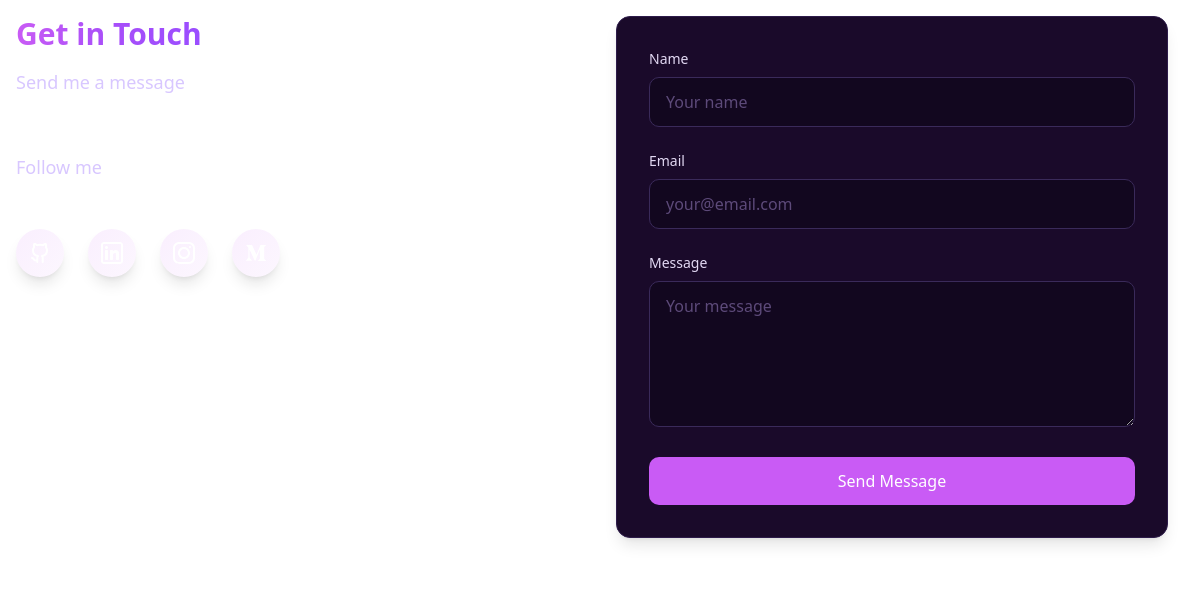
Test: ContactForm › form submission › shows error message on submission failure
Type "John Doe" into the field labelled "Name" at (892, 102), box [649,77,1135,127]
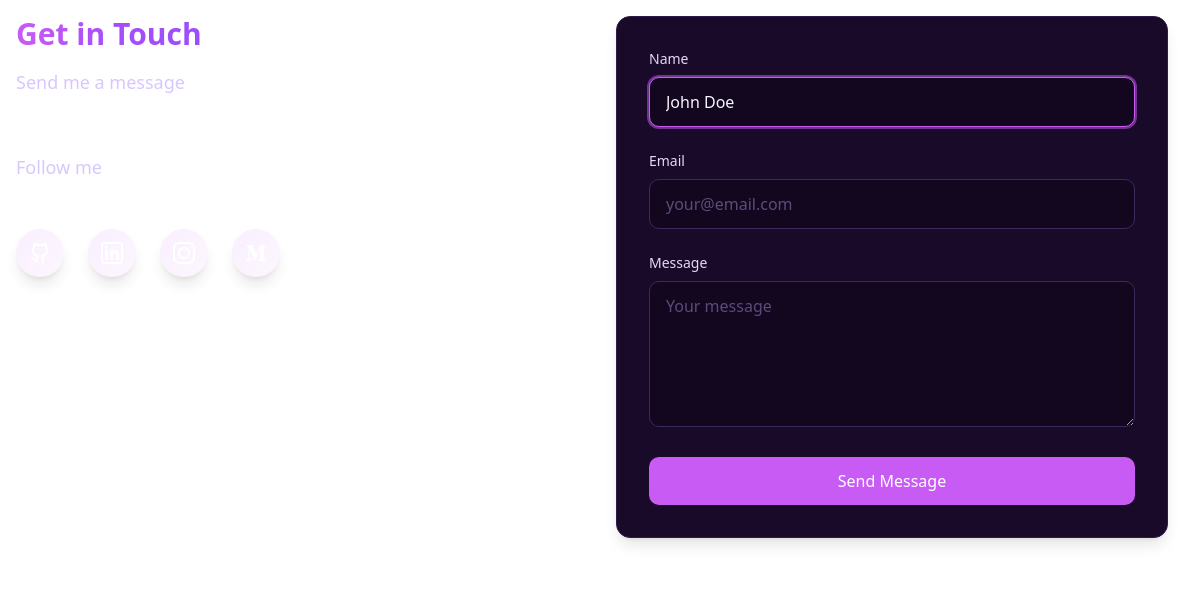
Type "john@example.com" into the field labelled "Email" at (892, 204), box [649,179,1135,229]
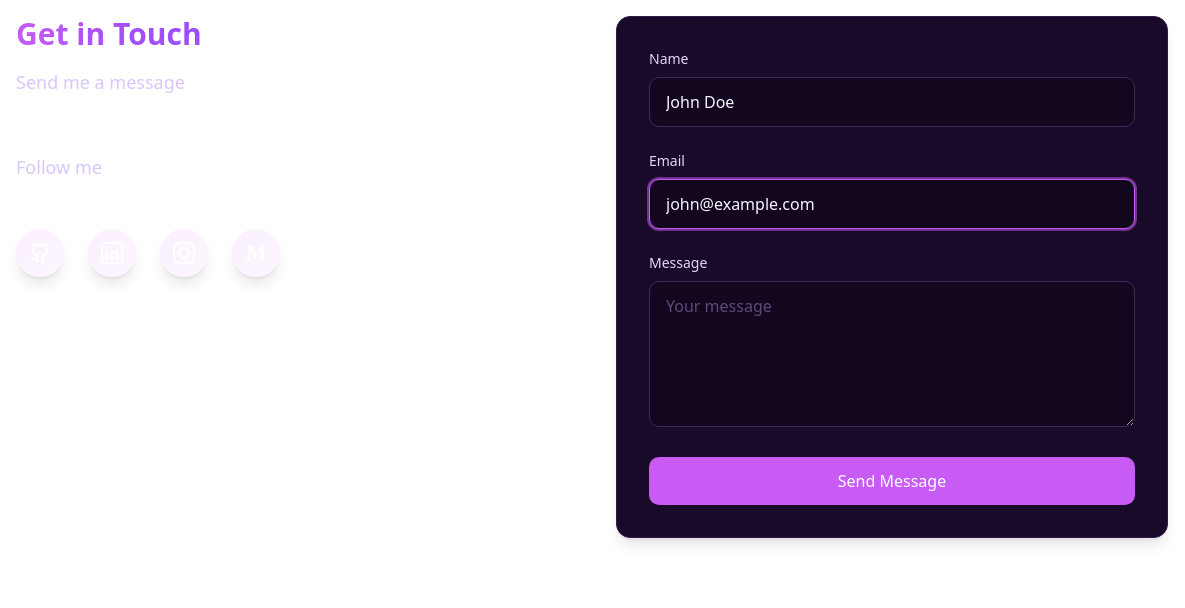
Type "Hello, this is a test message" into the text box labelled "Message" at (892, 354), box [649,281,1135,427]
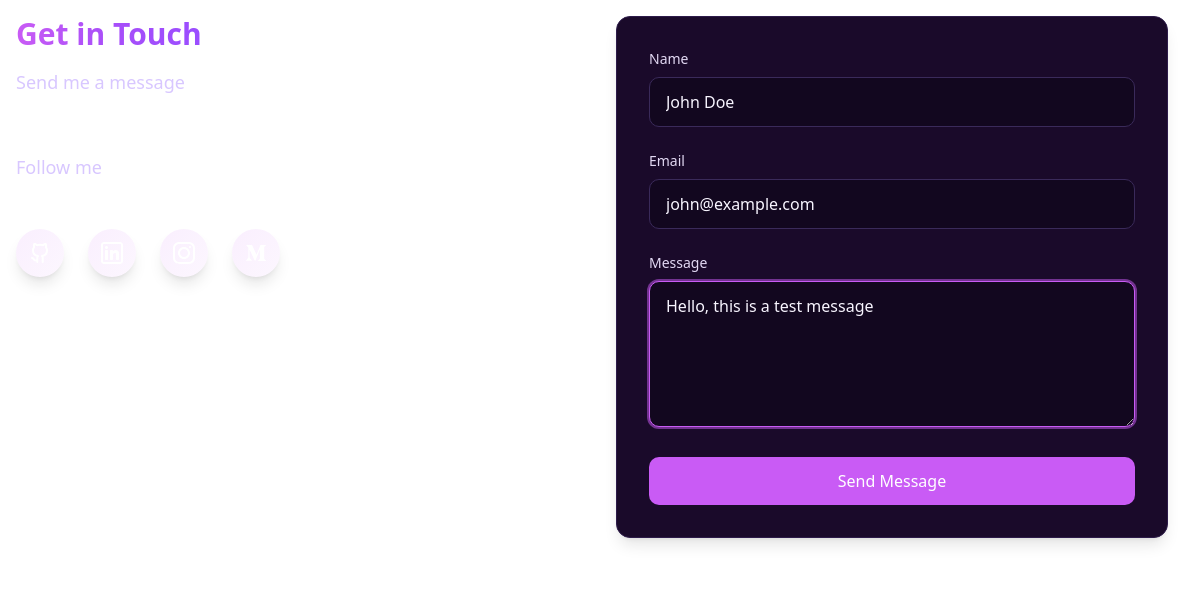
Click the button "Send Message" at (892, 481), box [649,457,1135,505]
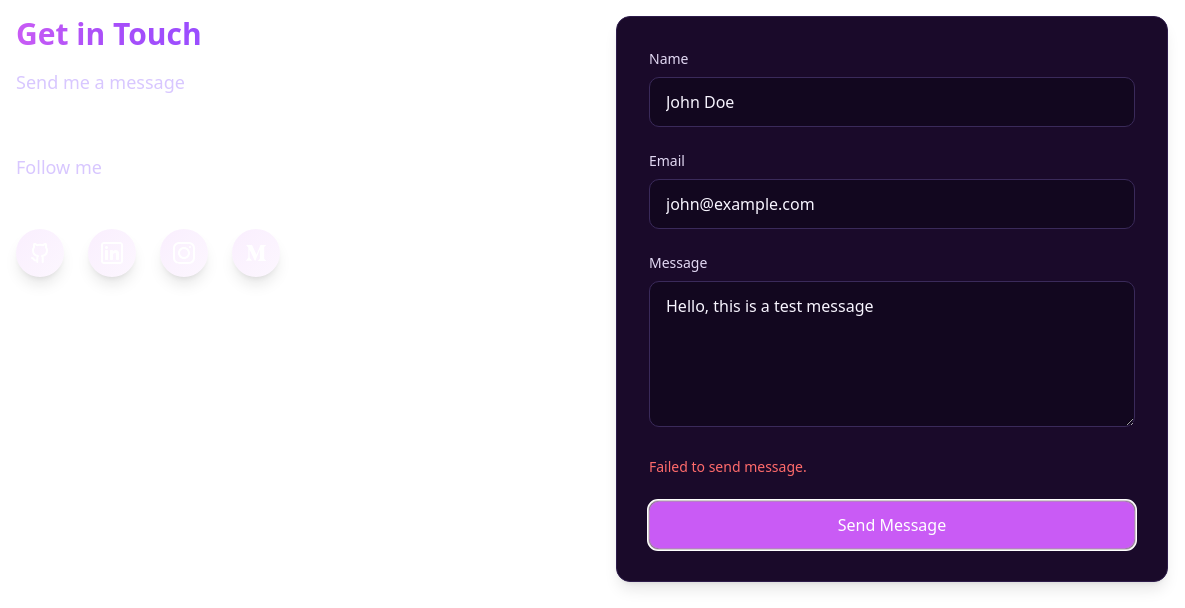
Check: the text "Failed to send message." is shown, box [649,457,807,476]
